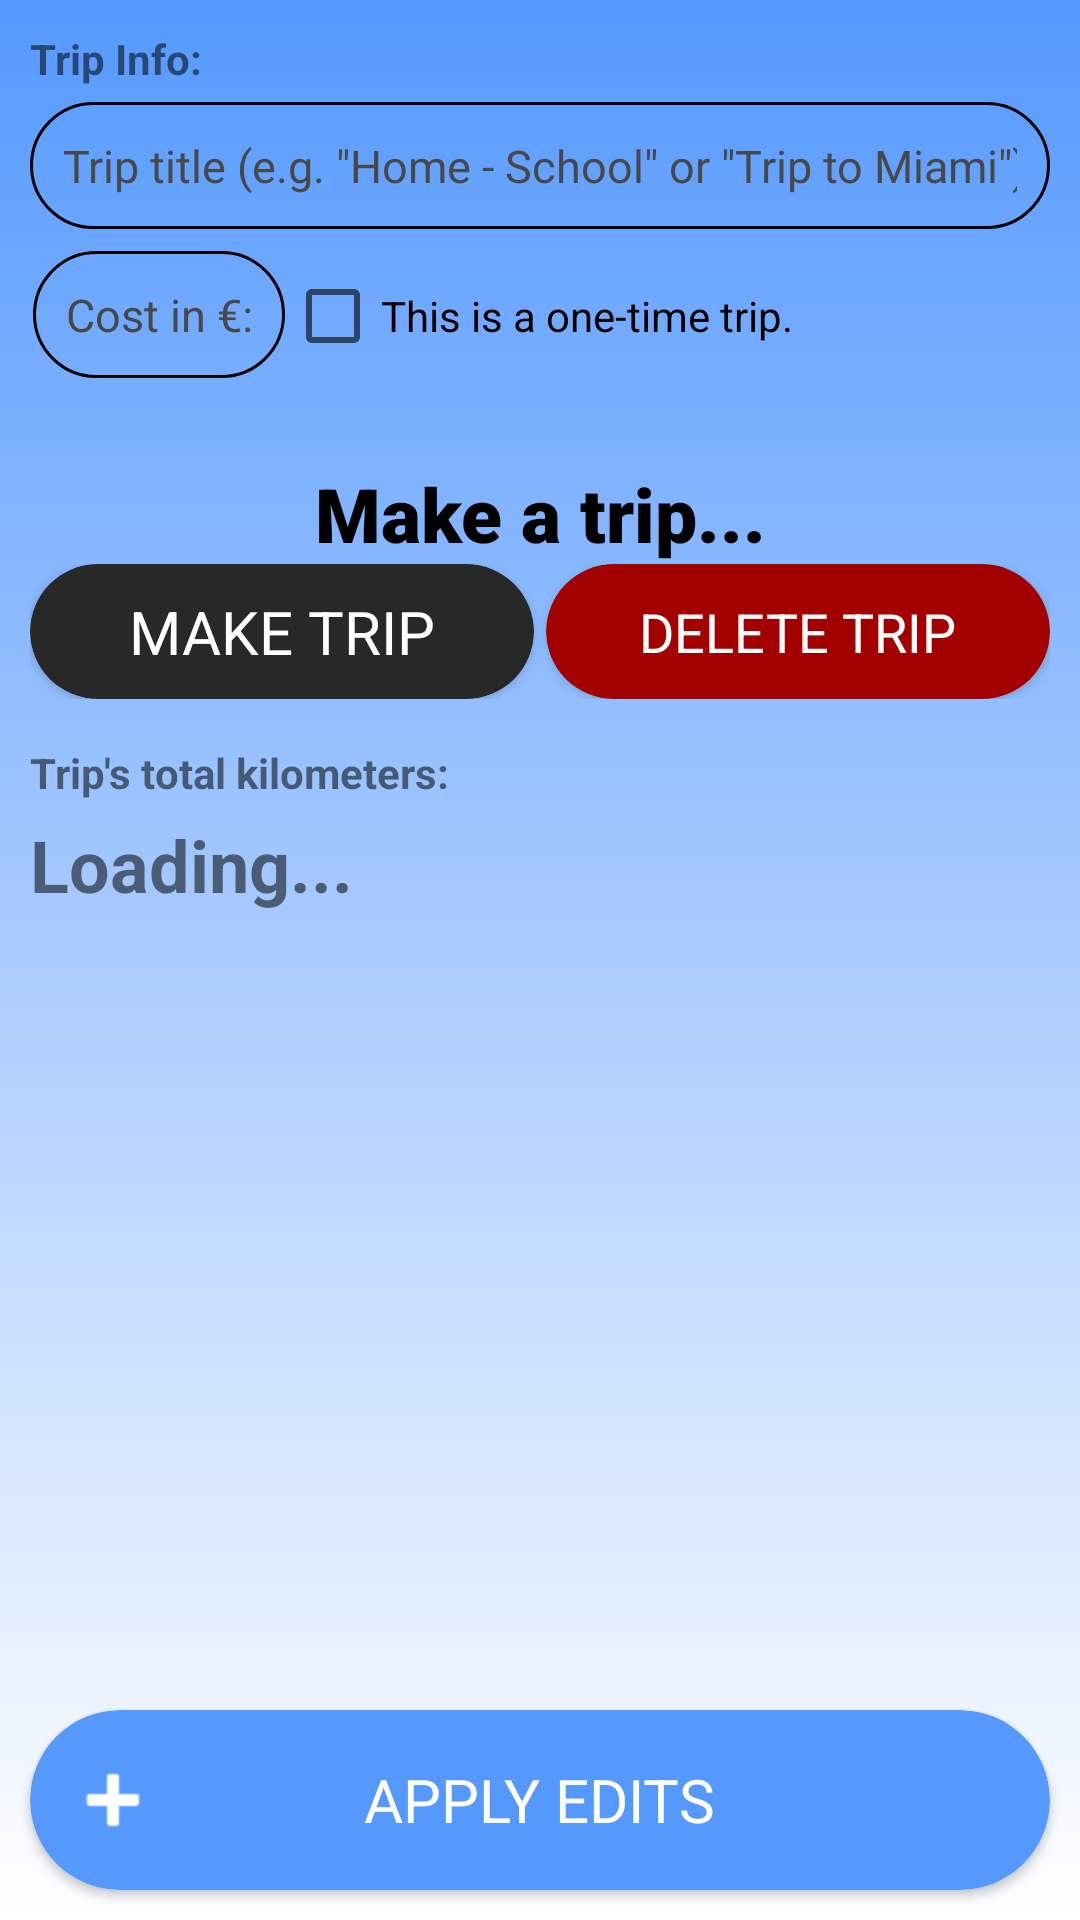

Icon bounding boxes for this 1080×1920 phone screenshot, format BBox(x1, y1, x2, y2):
add: BBox(86, 1773, 140, 1827)
